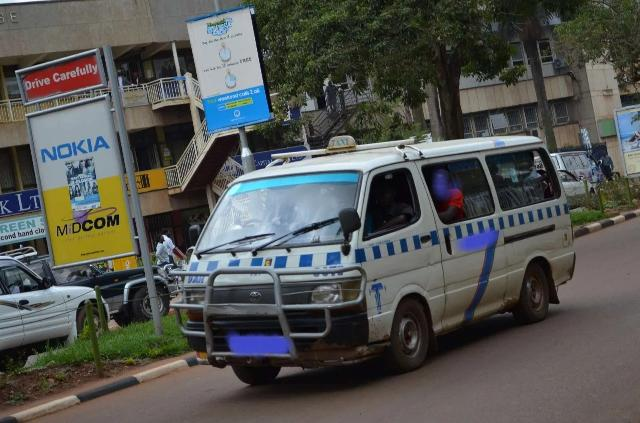van: (167, 133, 574, 384)
